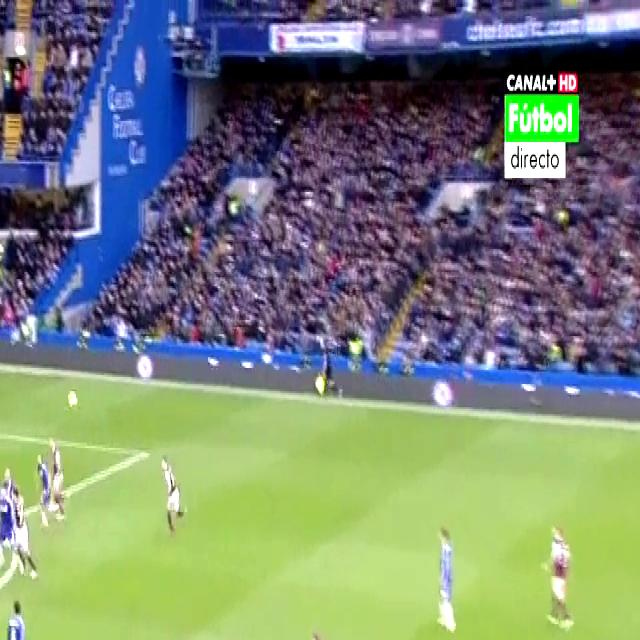ball: (65, 388, 75, 418)
referee: (310, 332, 347, 401)
soccer-player: (539, 503, 580, 640), (430, 515, 465, 640), (0, 466, 24, 581), (40, 428, 68, 526), (160, 447, 188, 541), (0, 590, 28, 640), (302, 618, 340, 640)
